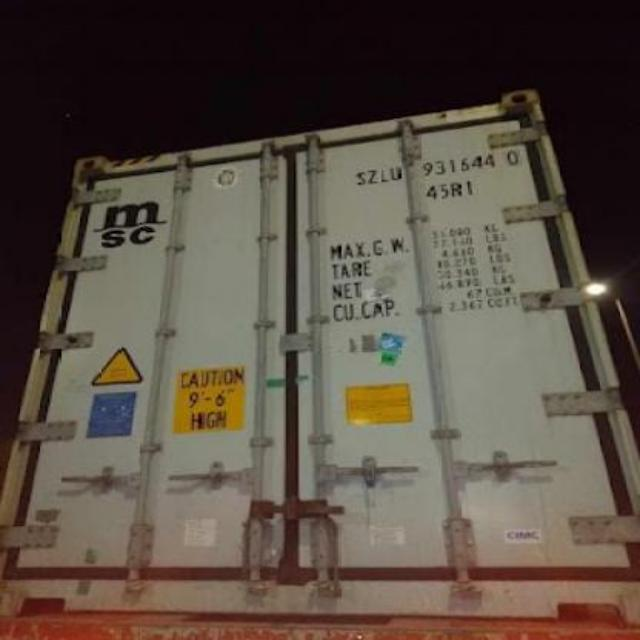0: (504, 143, 526, 169)
1: (446, 149, 459, 175)
3: (434, 156, 448, 178)
4: (471, 148, 484, 176), (482, 148, 496, 172)
6: (460, 154, 472, 174)
9: (420, 156, 432, 177)
L: (378, 164, 388, 186)
S: (352, 165, 366, 189)
U: (388, 162, 402, 182)
Z: (366, 152, 378, 188)
